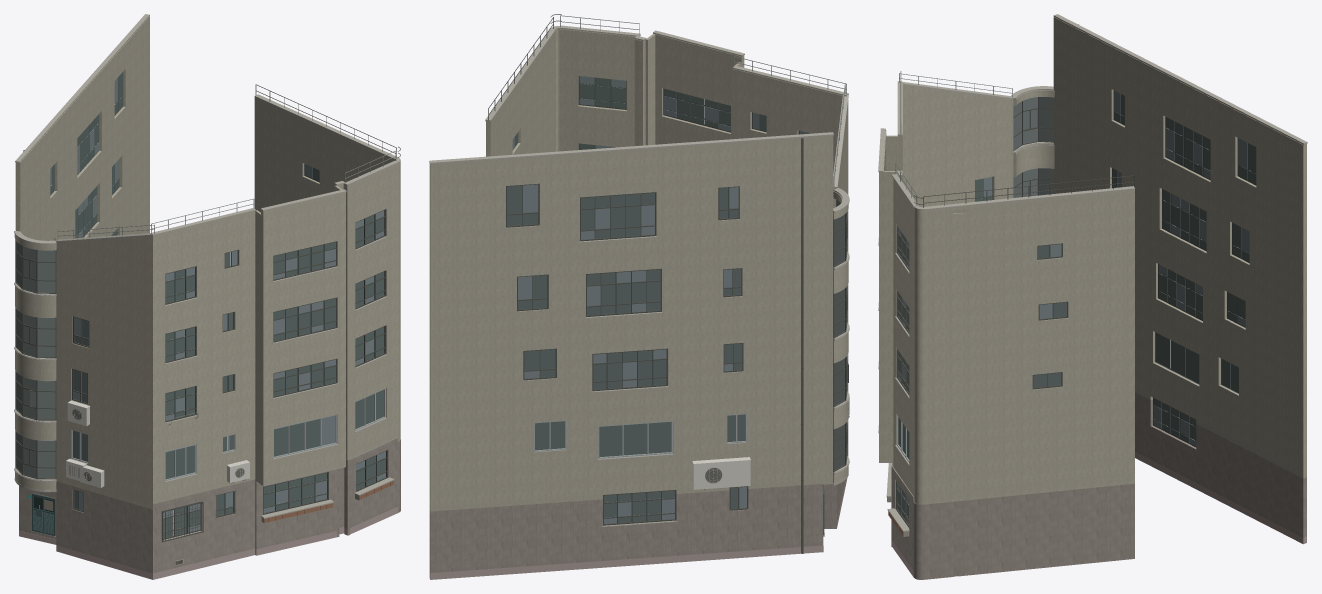
Rendered from map-front-web.glb.
The picture shows the model from 3 angles, left to right: view 1: azimuth 30°, elevation 25°; view 2: azimuth 150°, elevation 25°; view 3: azimuth 270°, elevation 25°; orthographic projection. The views are drawn at different scales.
Parts seen in each view (by area): view 1: 湖南路280弄2号五层住宅临街窗墙与弧窗; view 2: 湖南路280弄2号五层住宅临街窗墙与弧窗; view 3: 湖南路280弄2号五层住宅临街窗墙与弧窗.
Part boxes in pixels (bbox=[...]): 湖南路280弄2号五层住宅临街窗墙与弧窗: bbox=[14, 14, 400, 579]; 湖南路280弄2号五层住宅临街窗墙与弧窗: bbox=[429, 14, 849, 579]; 湖南路280弄2号五层住宅临街窗墙与弧窗: bbox=[878, 14, 1307, 579].
Bounding box in the file's own units: 17.63 × 19.72 × 19.16.
Materials: 31 (2 with a texture image).
